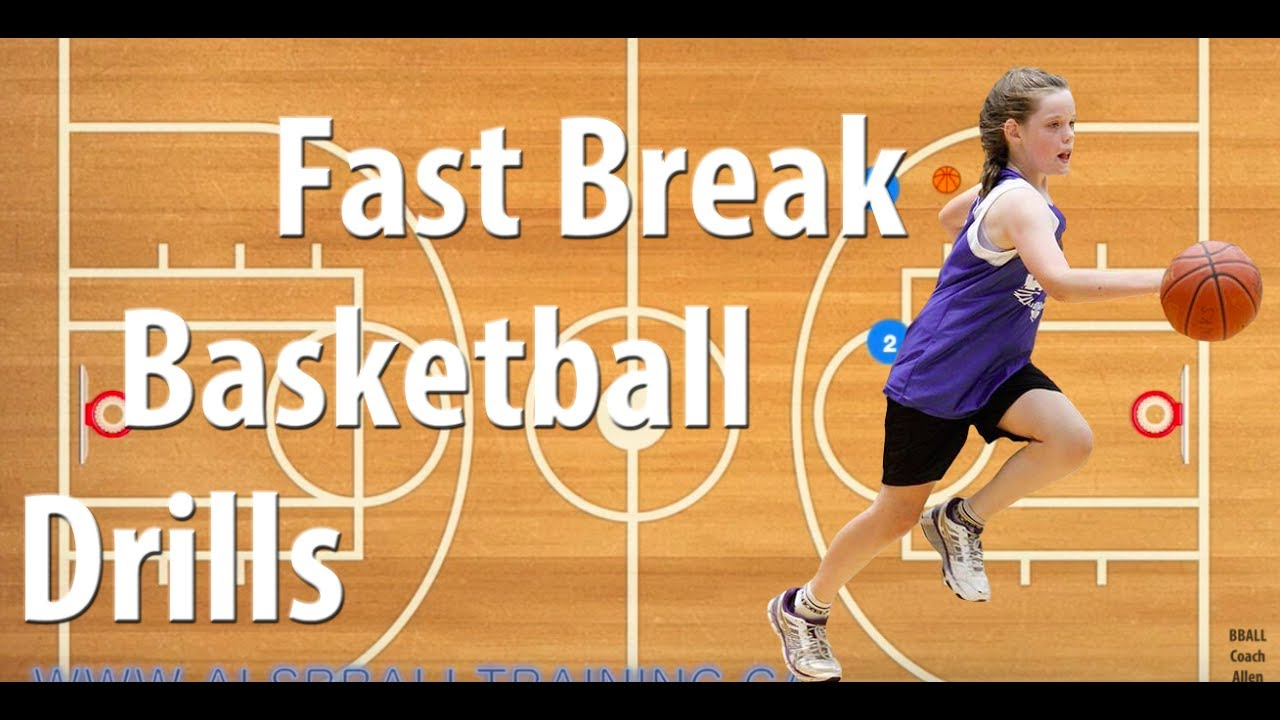b_ball: (1158, 229, 1272, 357)
face: (963, 71, 1094, 189)
player: (856, 72, 1133, 680)
